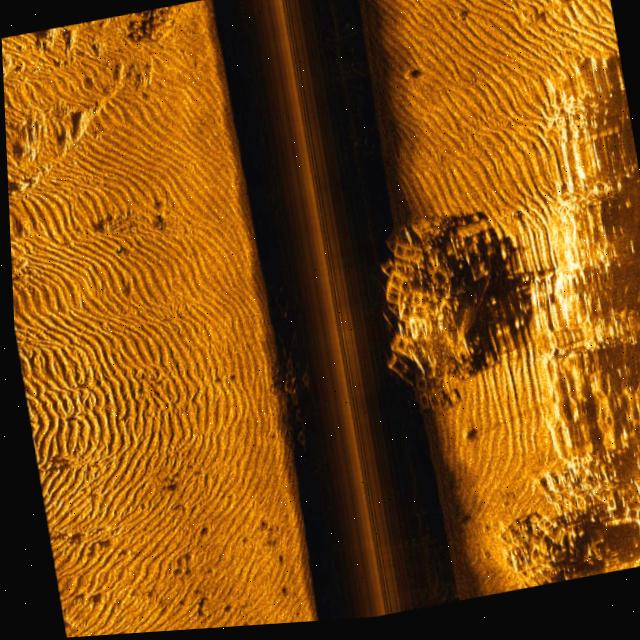artificial reef: (354, 208, 507, 406), (492, 454, 637, 596), (266, 336, 330, 465)
